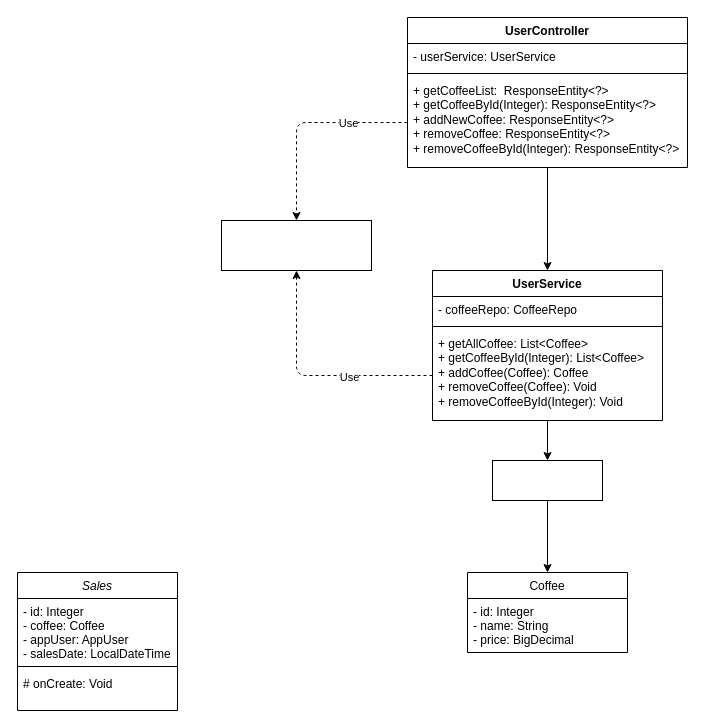
Image size: 705x728. Some labels were removed from this diagram. The centre of each missing label's shape, as x and y in pixels:
"CoffeeServiceException" goes at point 296,245.
"«interface» CoffeeRepo" goes at point 547,480.
